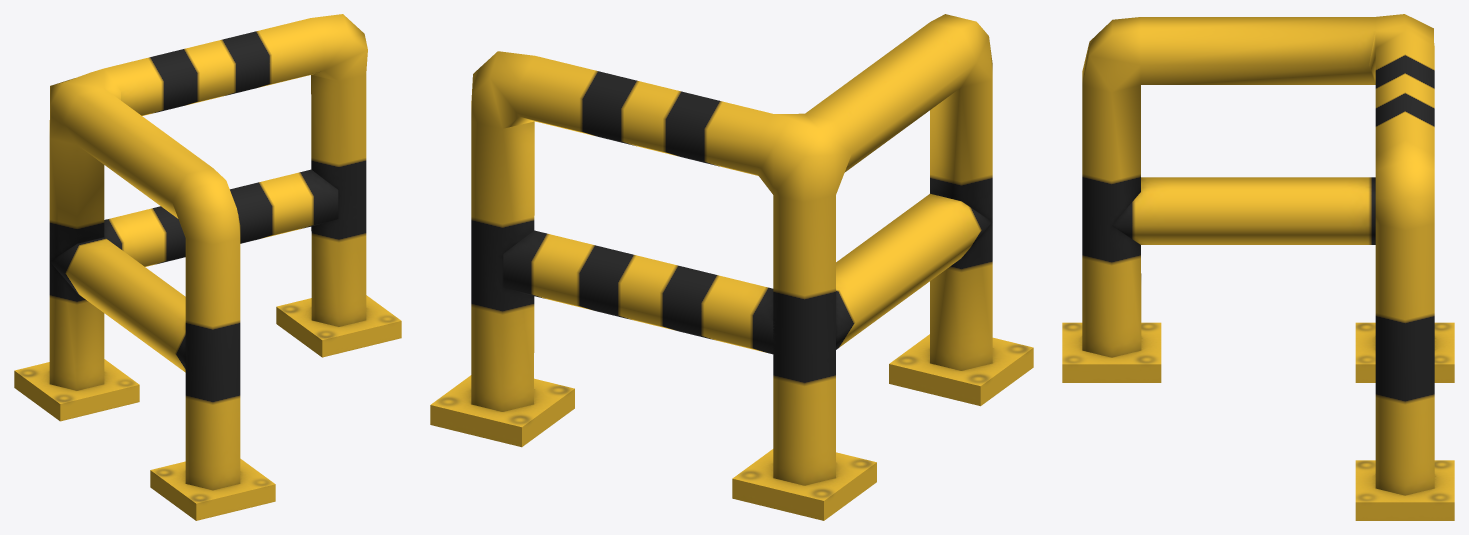
File: RailU.FBX
The picture shows the model from 3 angles, left to right: view 1: azimuth 30°, elevation 25°; view 2: azimuth 150°, elevation 25°; view 3: azimuth 270°, elevation 25°; orthographic projection. The views are drawn at different scales.
Parts seen in each view (by area): view 1: RailU; view 2: RailU; view 3: RailU.
Part boxes in pixels (x1,y1,x2,y2): RailU: [14, 14, 401, 520]; RailU: [430, 14, 1033, 520]; RailU: [1062, 14, 1454, 520].
Bounding box in the file's own units: 0.7109 × 0.6367 × 0.6558.
Materials: 1 (1 with a texture image).
